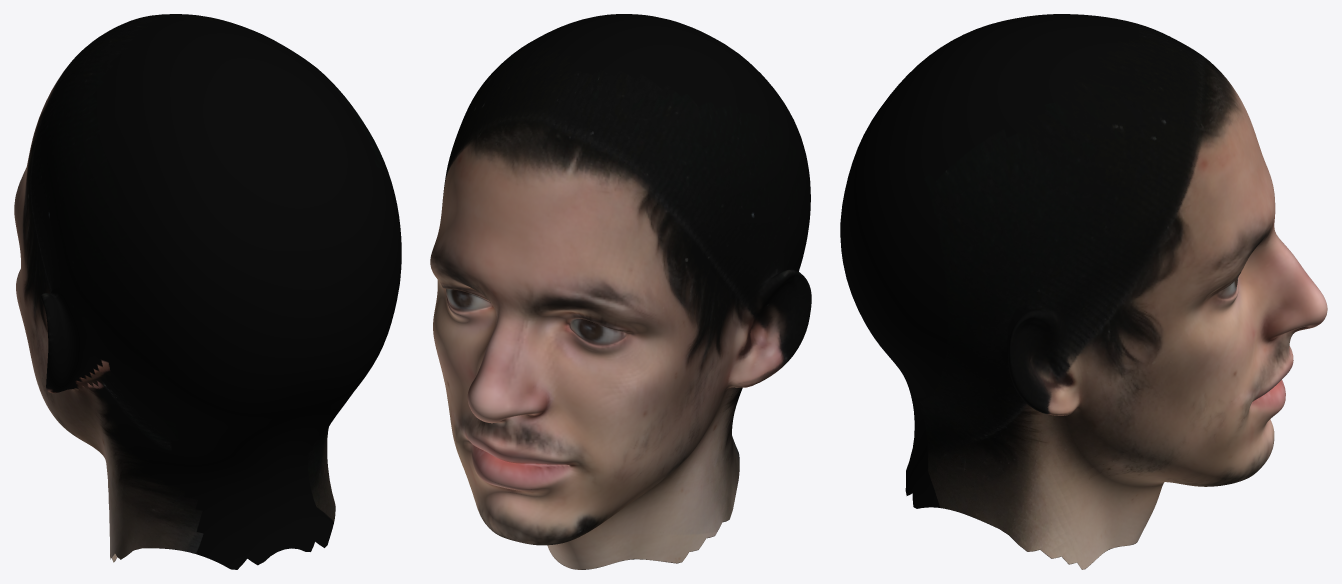
3 renders of one model, left to right at view 1: azimuth 30°, elevation 25°; view 2: azimuth 150°, elevation 25°; view 3: azimuth 270°, elevation 25°, orthographic. The views are drawn at different scales.
Parts seen in each view (by area): view 1: FaceBuilderHead.001; view 2: FaceBuilderHead.001; view 3: FaceBuilderHead.001.
Part boxes in pixels (x1=…): FaceBuilderHead.001: x1=14, y1=14, x2=401, y2=569; FaceBuilderHead.001: x1=430, y1=14, x2=811, y2=569; FaceBuilderHead.001: x1=840, y1=14, x2=1327, y2=569.
Size of the model in its own units: 1.7 by 2.4 by 2.09.
1 material, 1 textured.
